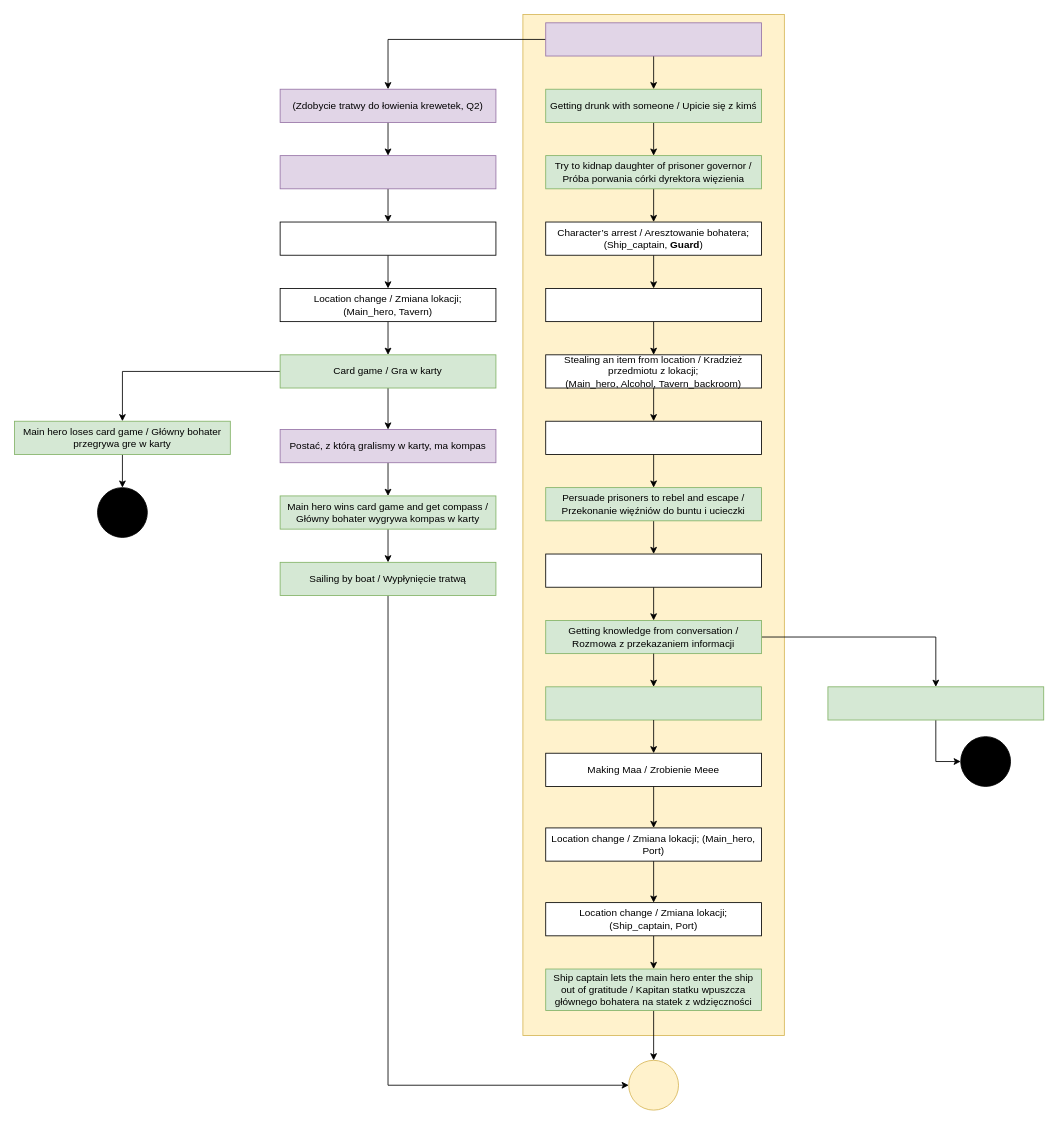
Some shapes in this 1058 by 1125 pixel diagram are drawn without their labels. Each missing label, with the centre of its shape:
"(Zdobycie glejtu na podróż, Q5)" goes at point (653, 39).
"(Zdobycie pieniędzy, Q1)" goes at point (387, 172).
"Characters’ release from prison / Wypuszczenie bohaterów z więzienia" goes at point (653, 703).
"Character’s arrest / Aresztowanie bohatera; (Main_hero, Guard )" goes at point (653, 437).
"Location change / Zmiana lokacji; (Guard, Prison)" goes at point (653, 570).
"Location change / Zmiana lokacji; (Main_hero, Tavern_backroom)" goes at point (653, 305).
"Making a deal / Transakcja kupna-sprzedaży; (Merchant, Main_hero , Paddle)" goes at point (387, 238).
"Prisoners revenge / Zemsta więźniów" goes at point (935, 703).
